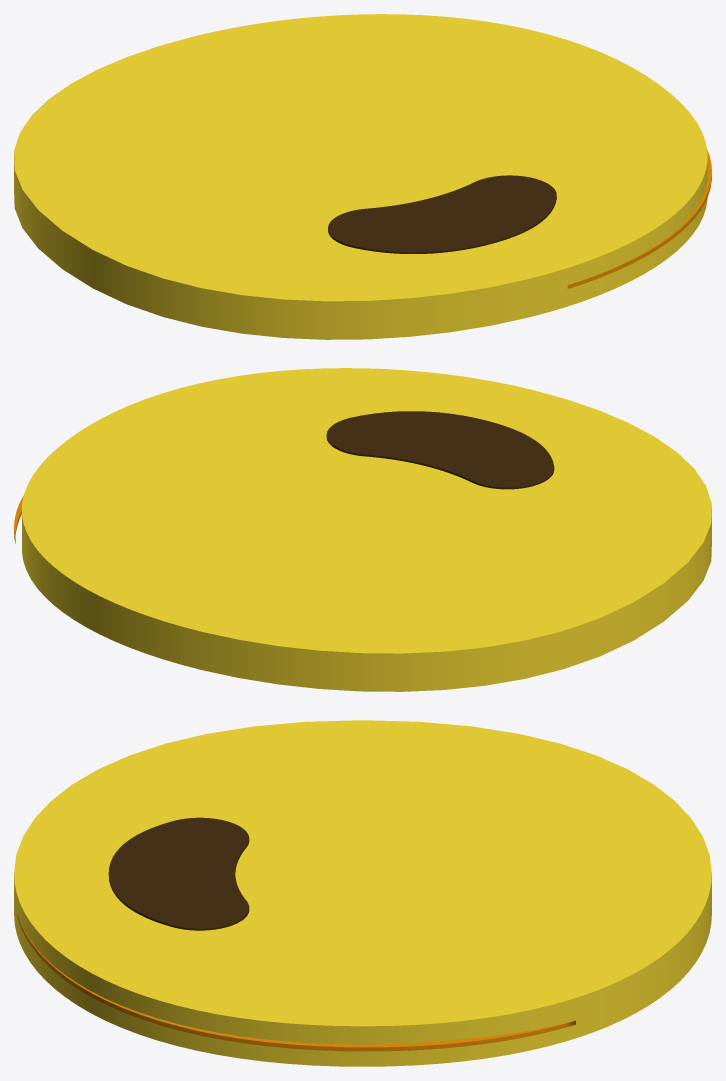
The model's file is emoji_u1f60d.glb.
The picture shows the model from 3 angles, top to bottom: view 1: azimuth 30°, elevation 25°; view 2: azimuth 150°, elevation 25°; view 3: azimuth 270°, elevation 25°; orthographic projection. The views are drawn at different scales.
Visible parts, largest first — view 1: emoji_u1f60d; view 2: emoji_u1f60d; view 3: emoji_u1f60d.
Boxes of the visible parts, x1=… form: emoji_u1f60d: x1=14, y1=14, x2=711, y2=339; emoji_u1f60d: x1=14, y1=368, x2=711, y2=691; emoji_u1f60d: x1=14, y1=720, x2=711, y2=1066.
Size of the model in its own units: 0.0328 by 0.0022 by 0.0313.
